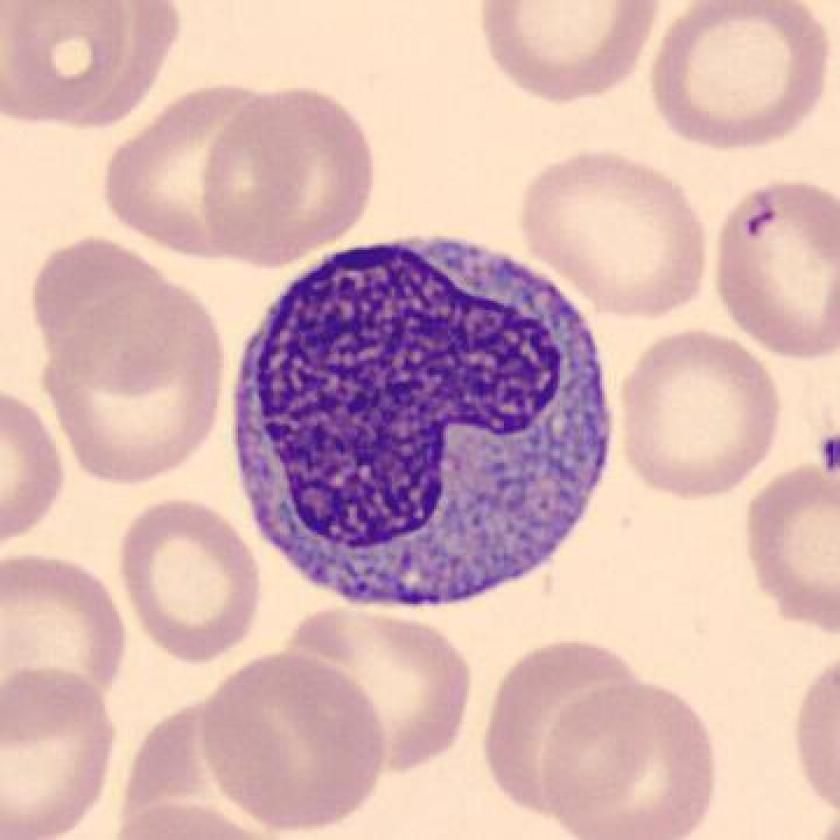monocyte: (218, 214, 636, 630)
